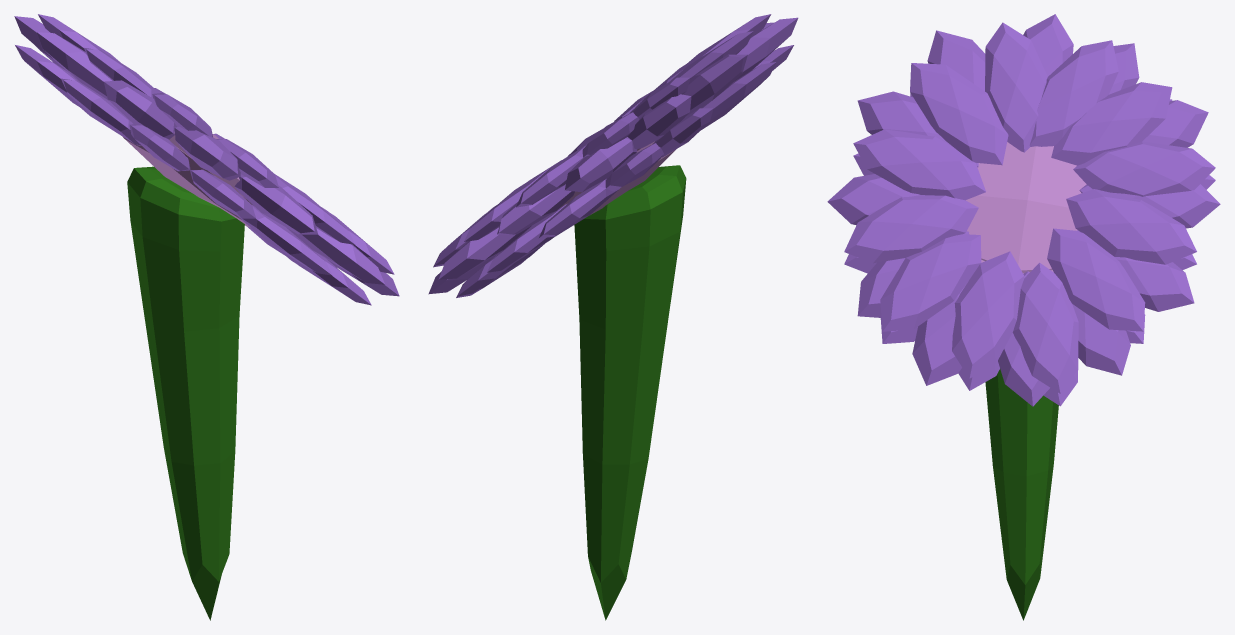
The model's file is PurpleFlower_v.1.1.fbx.
3 views of the same model, side by side, from view 1: azimuth 30°, elevation 25°; view 2: azimuth 150°, elevation 25°; view 3: azimuth 270°, elevation 25° (orthographic). The views are drawn at different scales.
Visible parts, largest first — view 1: Cube.032; view 2: Cube.032; view 3: Cube.032.
Boxes of the visible parts, bbox=[...] form: Cube.032: bbox=[14, 14, 399, 620]; Cube.032: bbox=[428, 14, 798, 620]; Cube.032: bbox=[827, 14, 1220, 620].
Bounding box in the file's own units: 26.55 × 50.17 × 33.12.
